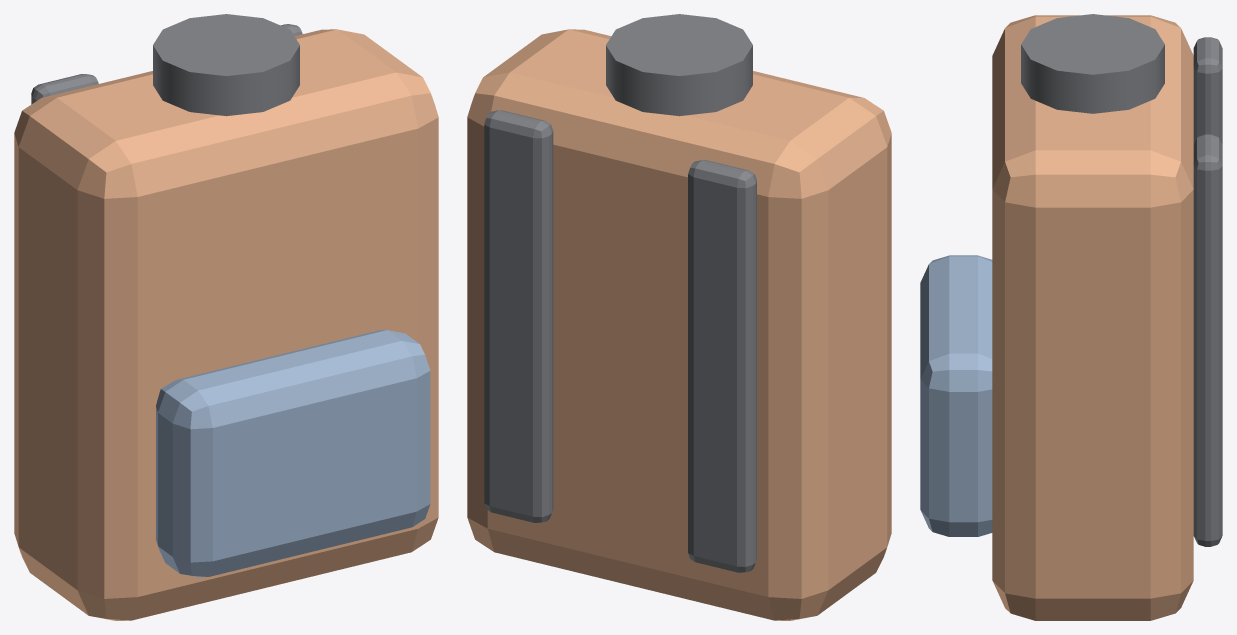
Rendered from backpack.glb.
3 views of the same model, side by side, from view 1: azimuth 30°, elevation 25°; view 2: azimuth 150°, elevation 25°; view 3: azimuth 270°, elevation 25° (orthographic). The views are drawn at different scales.
Parts seen in each view (by area): view 1: body.014, pocket, handle.002, strapL; view 2: body.014, strapR, strapL, handle.002; view 3: body.014, pocket, handle.002, strapR, strapL.
Boxes of the visible parts, box(x1,y1,x2,y2) form: body.014: box(14, 29, 438, 620); pocket: box(156, 330, 430, 577); handle.002: box(153, 14, 299, 116); strapL: box(31, 74, 98, 104); body.014: box(467, 29, 891, 620); strapR: box(484, 110, 553, 522); strapL: box(688, 160, 756, 572); handle.002: box(606, 14, 752, 116); body.014: box(992, 15, 1193, 620); pocket: box(920, 255, 992, 536); handle.002: box(1021, 14, 1164, 113); strapR: box(1193, 134, 1222, 546); strapL: box(1193, 37, 1222, 144).
Bounding box in the file's own units: 0.28 × 0.39 × 0.21.
